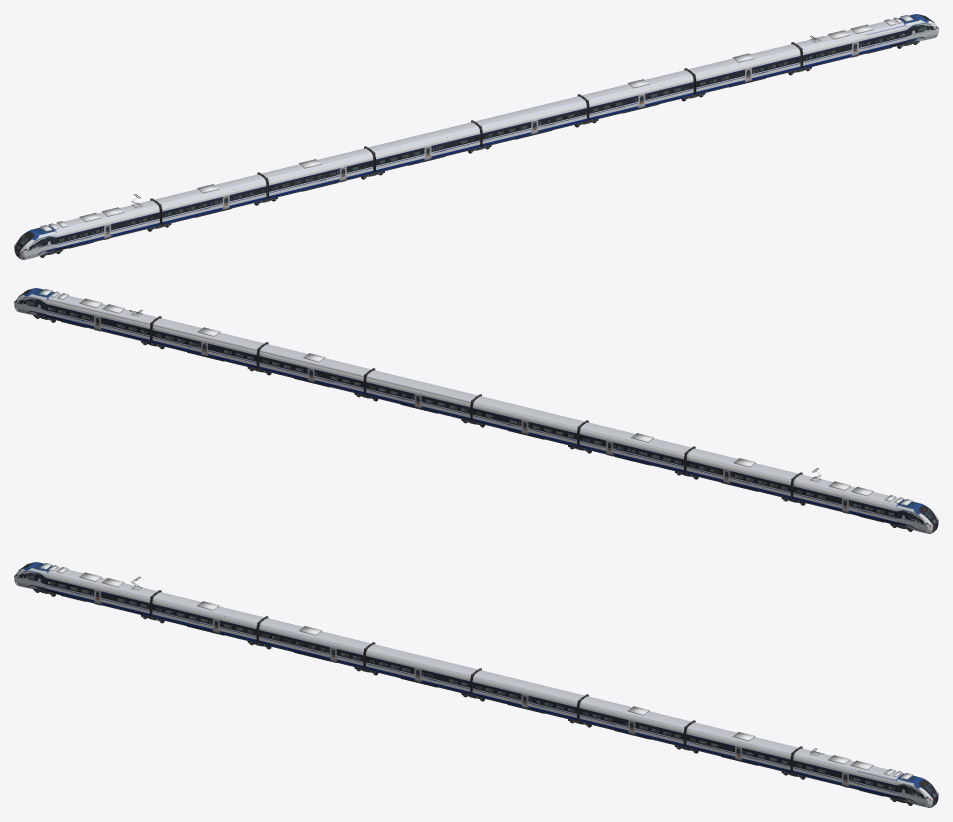
Rendered from DART.glb.
3 renders of one model, top to bottom at view 1: azimuth 30°, elevation 25°; view 2: azimuth 150°, elevation 25°; view 3: azimuth 330°, elevation 25°, orthographic.
Visible parts, largest first — view 1: DA_czlon4, DA_czlon5, DA_czlon3, DA_czlon7, DA_czlon6, DA_czlon2, DA_czlon8, DA_czlon1, DA_guma, Szyby boczne i uszczelki, DA_rama, Wnętrze pasażerskie (+3 smaller); view 2: DA_czlon4, DA_czlon5, DA_czlon7, DA_czlon2, DA_czlon6, DA_czlon3, DA_czlon8, DA_czlon1, DA_guma, Szyby boczne i uszczelki, DA_rama, Wnętrze pasażerskie (+3 smaller); view 3: DA_czlon4, DA_czlon5, DA_czlon3, DA_czlon7, DA_czlon2, DA_czlon6, DA_czlon1, DA_czlon8, DA_guma, Szyby boczne i uszczelki, DA_rama, Wnętrze pasażerskie (+3 smaller).
Part boxes in pixels (x1,y1,x2,y2): DA_czlon4: [368, 122, 480, 172]; DA_czlon5: [475, 96, 586, 146]; DA_czlon3: [261, 148, 373, 198]; DA_czlon7: [689, 44, 800, 94]; DA_czlon6: [582, 70, 693, 120]; DA_czlon2: [155, 174, 266, 224]; DA_czlon8: [795, 18, 906, 67]; DA_czlon1: [49, 200, 159, 250]; DA_guma: [57, 32, 905, 242]; Szyby boczne i uszczelki: [58, 33, 904, 242]; DA_rama: [44, 41, 917, 254]; Wnętrze pasażerskie: [58, 34, 901, 242]; DA_czlon4: [472, 396, 584, 446]; DA_czlon5: [366, 370, 477, 420]; DA_czlon7: [152, 318, 263, 368]; DA_czlon2: [686, 448, 797, 498]; DA_czlon6: [259, 344, 370, 394]; DA_czlon3: [579, 422, 691, 472]; DA_czlon8: [46, 292, 157, 341]; DA_czlon1: [793, 474, 903, 524]; DA_guma: [47, 306, 895, 516]; Szyby boczne i uszczelki: [48, 307, 894, 516]; DA_rama: [35, 315, 908, 528]; Wnętrze pasażerskie: [51, 308, 894, 516]; DA_czlon4: [366, 644, 477, 694]; DA_czlon5: [472, 670, 584, 720]; DA_czlon3: [259, 618, 370, 668]; DA_czlon7: [686, 722, 797, 772]; DA_czlon2: [152, 592, 263, 642]; DA_czlon6: [579, 696, 691, 746]; DA_czlon1: [46, 567, 157, 615]; DA_czlon8: [793, 748, 903, 798]; DA_guma: [47, 580, 895, 790]; Szyby boczne i uszczelki: [48, 581, 894, 790]; DA_rama: [35, 589, 908, 802]; Wnętrze pasażerskie: [51, 582, 894, 790].
Size of the model in its own units: 150 by 5.6 by 2.96.
Materials: 48 (6 with a texture image).
